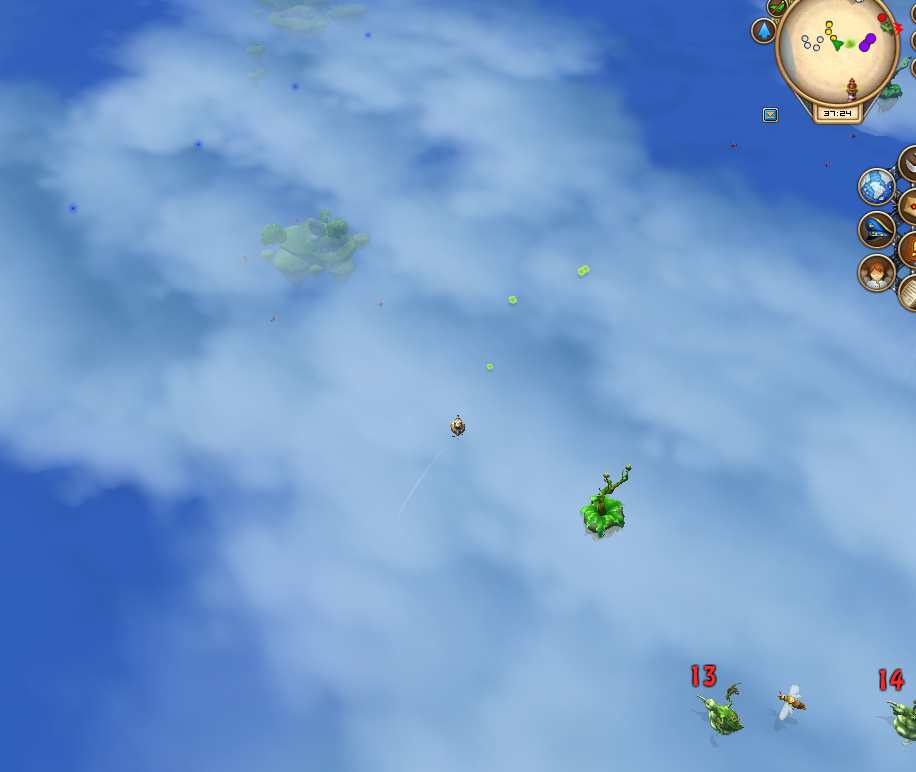dandelion-empty: (575, 464, 636, 544)
dandelion-full: (879, 57, 912, 112)
fluff: (504, 293, 520, 308), (485, 360, 495, 372), (582, 262, 590, 276), (576, 267, 586, 278)
